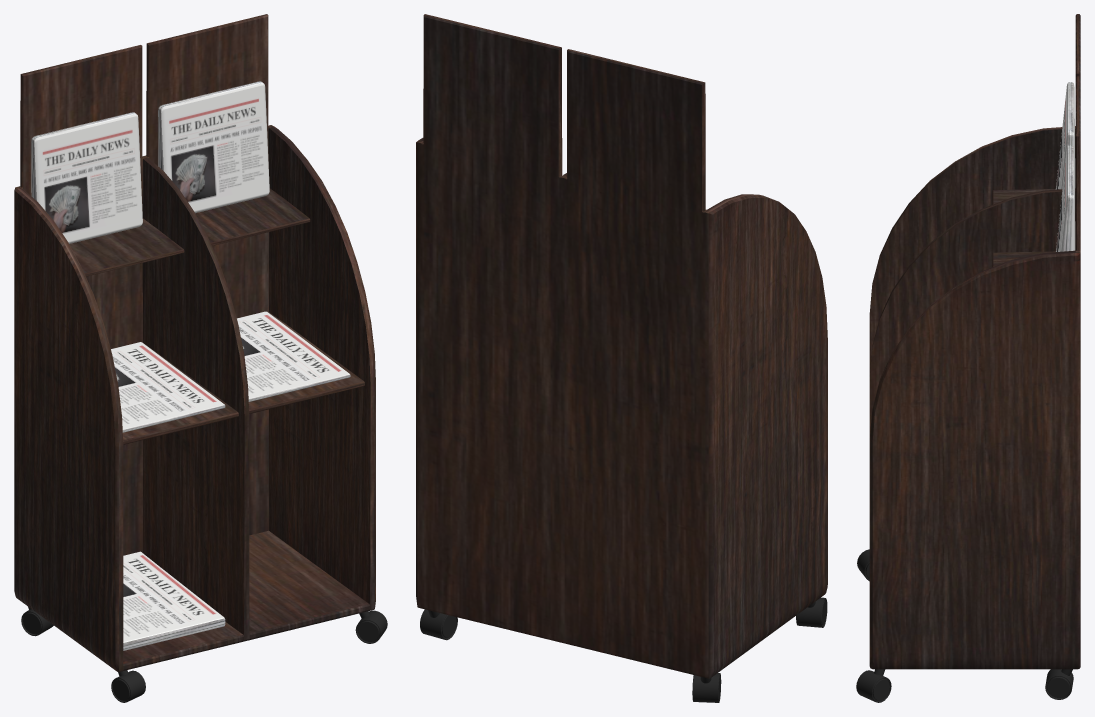
The model's file is newspaper_stand.fbx.
The picture shows the model from 3 angles, left to right: view 1: azimuth 30°, elevation 25°; view 2: azimuth 150°, elevation 25°; view 3: azimuth 270°, elevation 25°; orthographic projection. The views are drawn at different scales.
Visible parts, largest first — view 1: newspaper_stand_mesh_combined_result; view 2: newspaper_stand_mesh_combined_result; view 3: newspaper_stand_mesh_combined_result.
Boxes of the visible parts, <box> form: newspaper_stand_mesh_combined_result: <box>14,14,387,702</box>; newspaper_stand_mesh_combined_result: <box>416,14,827,702</box>; newspaper_stand_mesh_combined_result: <box>856,14,1080,702</box>.
Bounding box in the file's own units: 4.63 × 8.98 × 3.26.
Materials: 3 (2 with a texture image).
